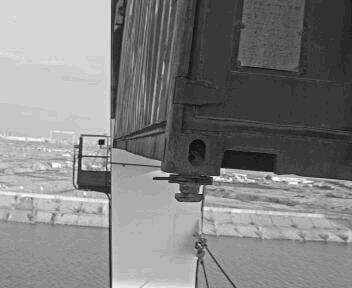twist_lock_1: (162, 171, 218, 211)
